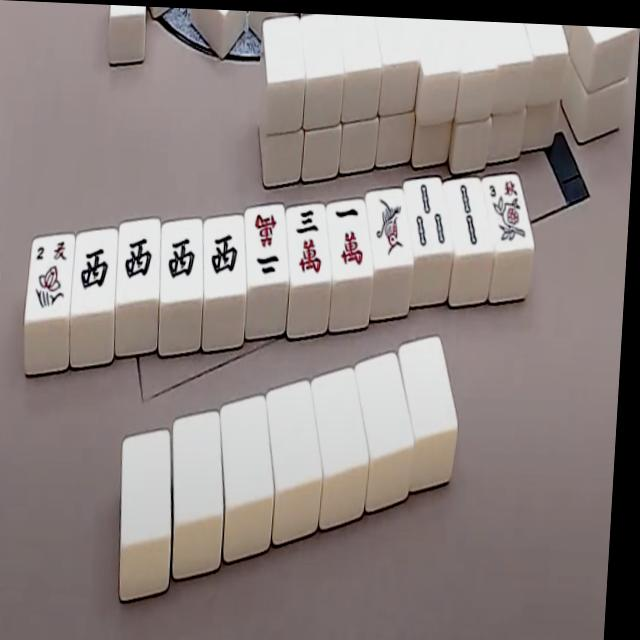ff2: (29, 238, 74, 317)
ff3: (485, 173, 532, 251)
m1: (325, 199, 372, 273)
m2: (244, 207, 291, 283)
m3: (284, 204, 332, 282)
s1: (367, 192, 411, 263)
s2: (448, 178, 490, 251)
s3: (406, 178, 450, 252)
west: (162, 223, 207, 290), (74, 233, 118, 300), (119, 224, 163, 290), (205, 219, 249, 284)
